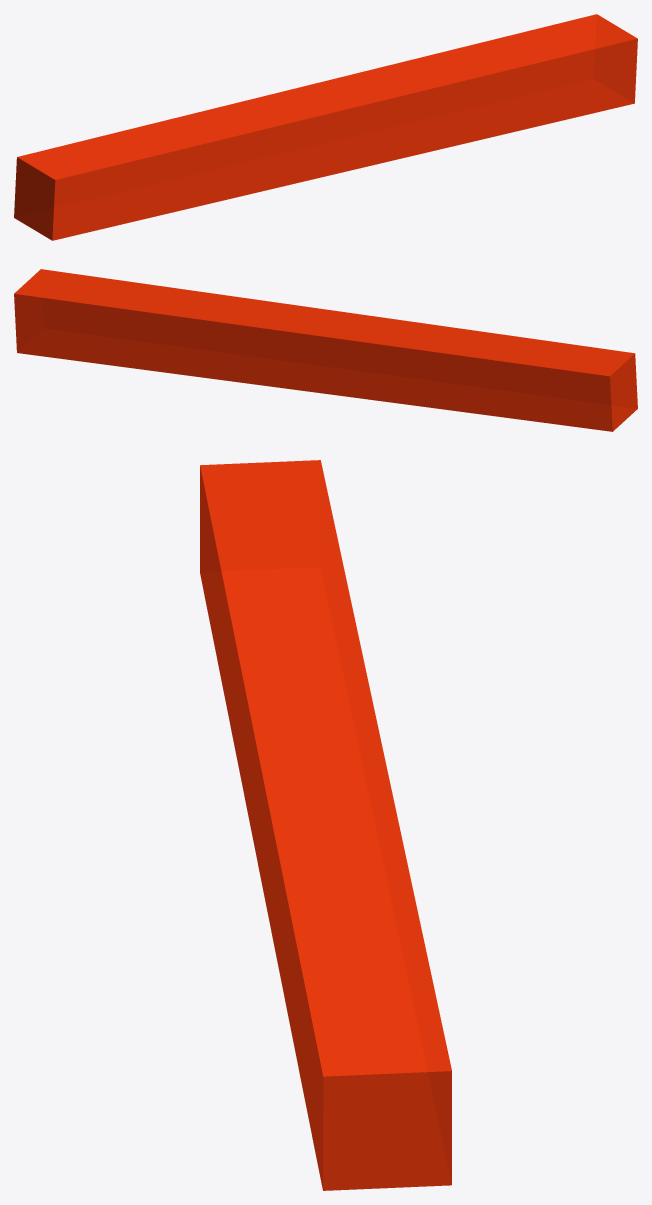
File: Event_421115418_EErechit_100.fbx
3 views of the same model, one above another, from view 1: azimuth 30°, elevation 25°; view 2: azimuth 150°, elevation 25°; view 3: azimuth 270°, elevation 25° (orthographic). The views are drawn at different scales.
Visible parts, largest first — view 1: Model; view 2: Model; view 3: Model.
Part boxes in pixels (x1,y1,x2,y2): Model: [14, 14, 637, 240]; Model: [14, 269, 637, 431]; Model: [200, 460, 451, 1190].
Size of the model in its own units: 0.7895 by 0.1182 by 0.151.
